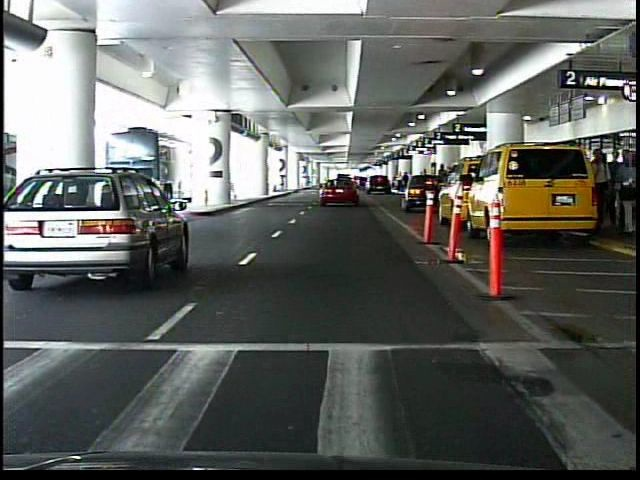person: (436, 160, 450, 204)
